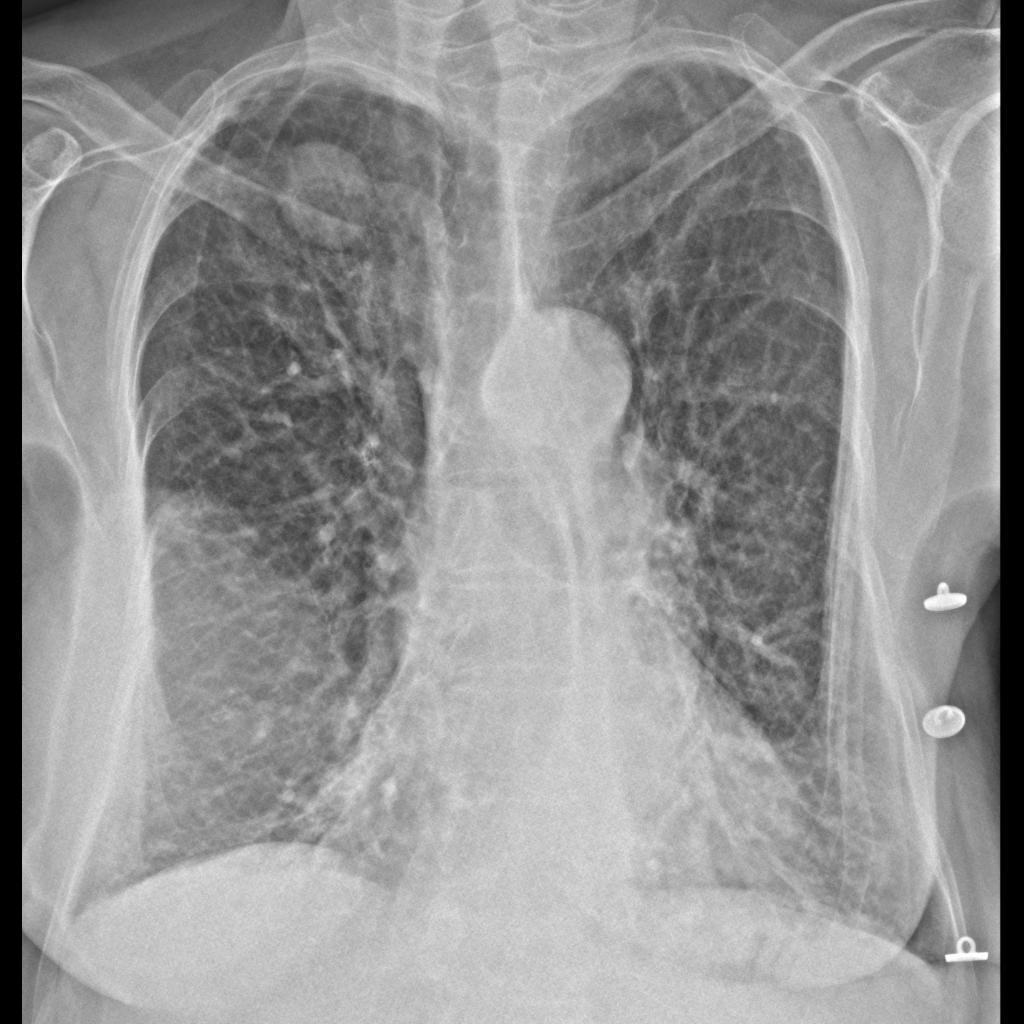Nodule: (264, 134, 390, 261)
